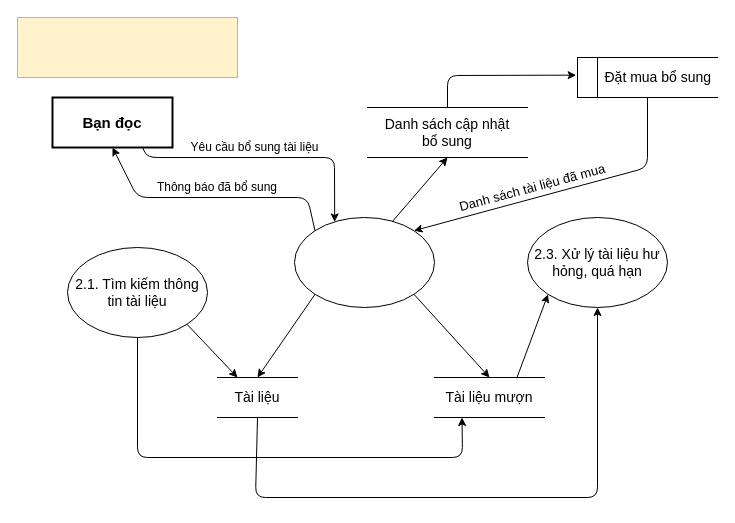
Image size: 735x523. Some labels were removed from this diagram. The centre of each missing label's shape, as x and y in pixels:
2.2. Cập nhật thông tin tài liệu: the point at 364,262
Sơ đồ mức dưới đỉnh 2. Quản lý tài liệu: the point at 127,47
